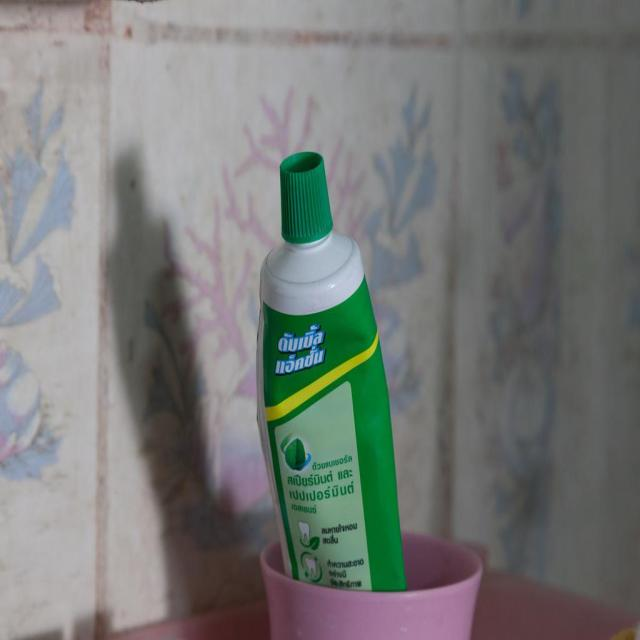Toothpaste: (251, 136, 415, 595)
